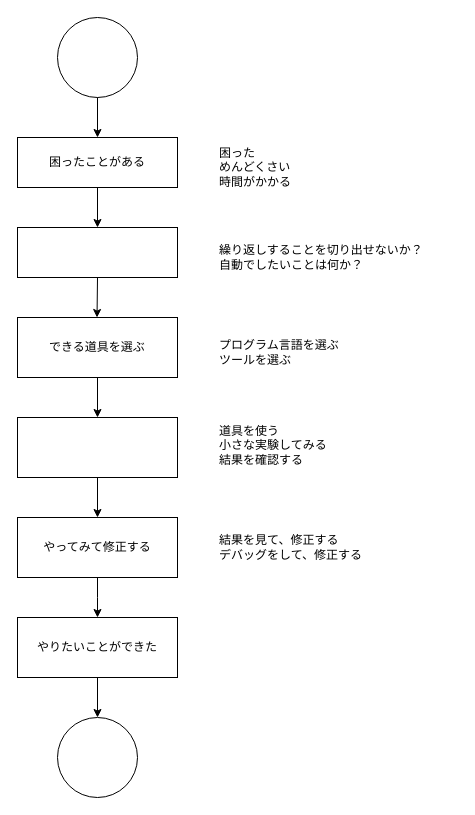
The diagram is 475 pixels wide and 815 high, and some of its shapes have lost their labels. The shapes that lost their labels are listed below. From the top down, each one's centre as x and y in pixels, then its label:
At point 97,252: "やりたいことを決める".
At point 97,447: "道具を使ってやってみる".
